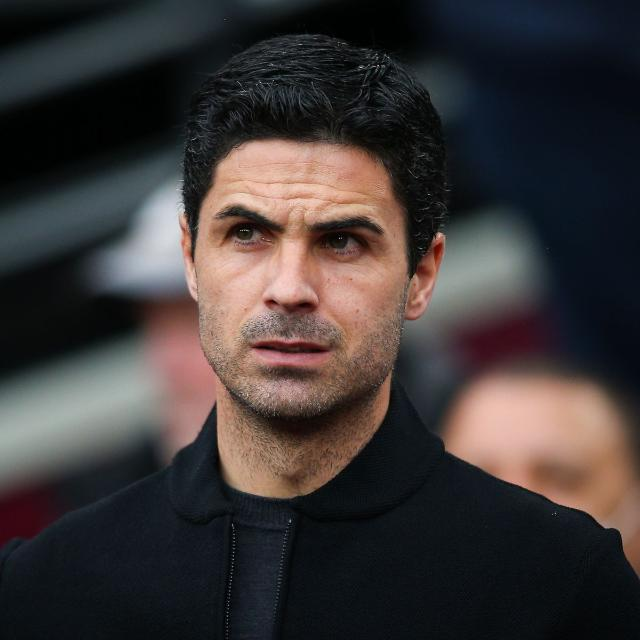forehead: (234, 172, 356, 206)
